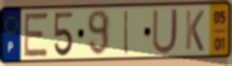5: (53, 10, 74, 58)
9: (86, 9, 112, 59)
E: (22, 11, 50, 59)
I: (123, 9, 130, 57)
K: (184, 9, 206, 53)
U: (151, 7, 180, 56)
